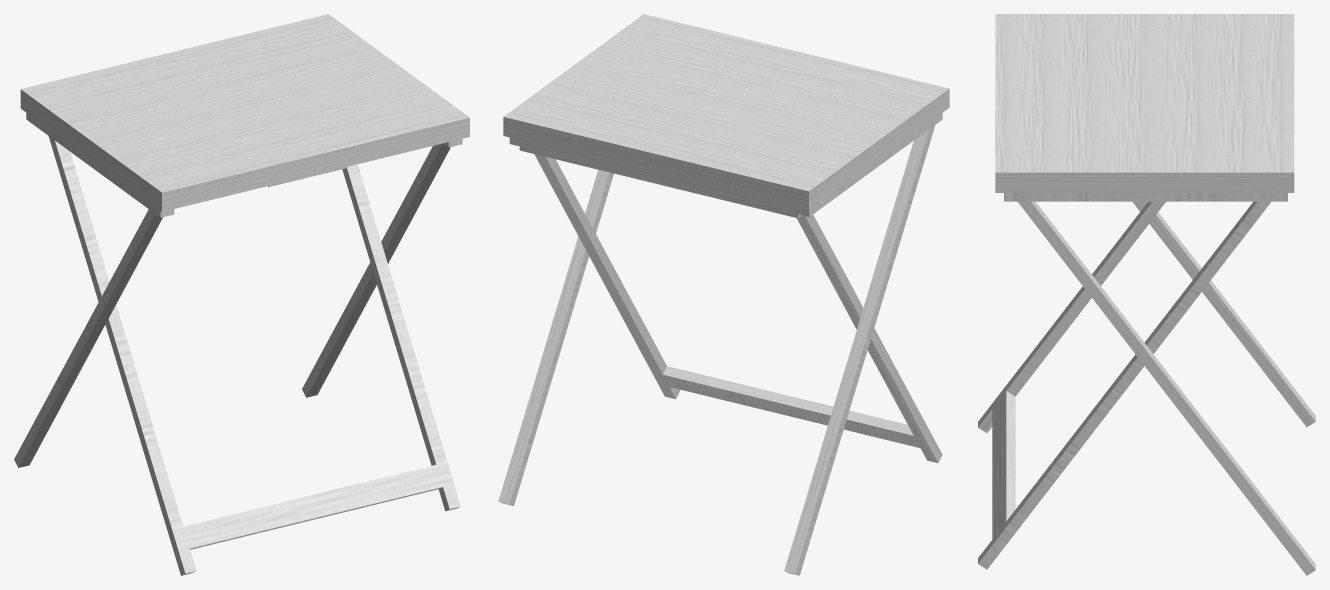
Rendered from TV_Tray_B.FBX.
The picture shows the model from 3 angles, left to right: view 1: azimuth 30°, elevation 25°; view 2: azimuth 150°, elevation 25°; view 3: azimuth 270°, elevation 25°; orthographic projection. The views are drawn at different scales.
Parts seen in each view (by area): view 1: Tv_Tray; view 2: Tv_Tray; view 3: Tv_Tray.
Boxes of the visible parts, <box> form: Tv_Tray: <box>14,14,469,575</box>; Tv_Tray: <box>498,14,949,575</box>; Tv_Tray: <box>978,14,1315,575</box>.
Size of the model in its own units: 100 by 120 by 90.36.
